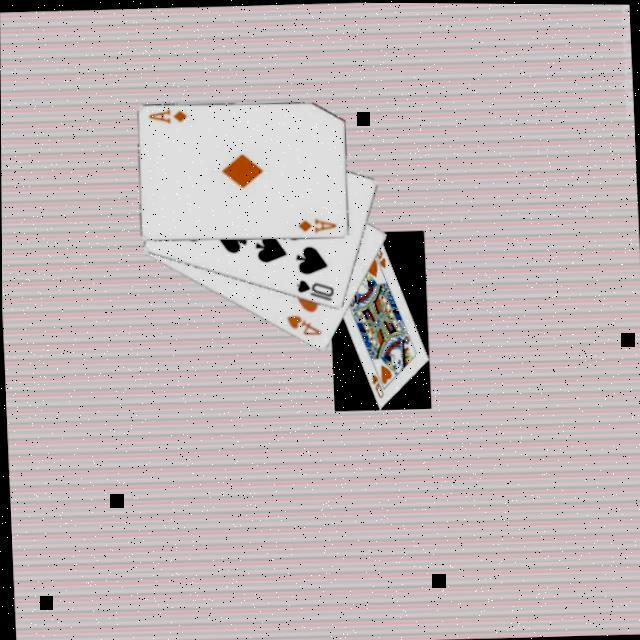10S: (294, 275, 339, 305)
4H: (284, 310, 325, 339)
AD: (295, 215, 340, 237), (147, 105, 192, 127)
